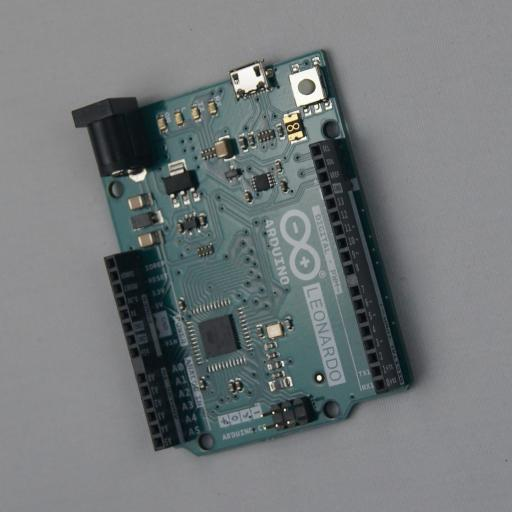Arduino Leonardo: (72, 50, 425, 456)
